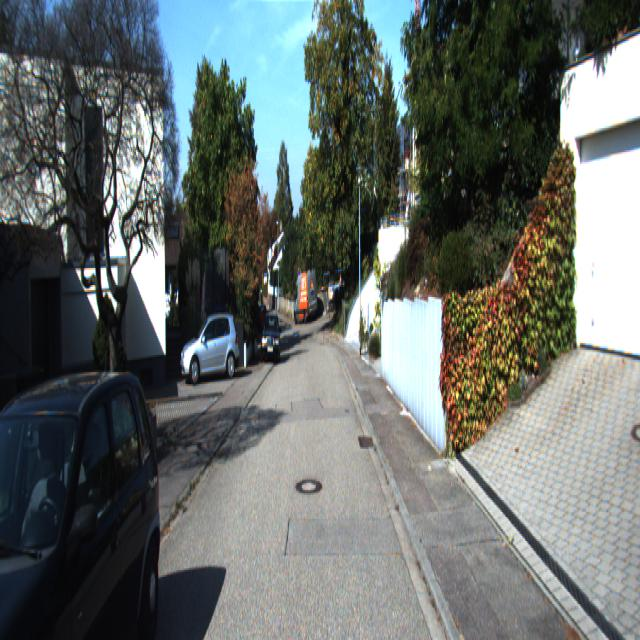Car: (0, 360, 167, 639), (180, 311, 241, 384), (293, 270, 318, 324), (261, 310, 281, 362)
